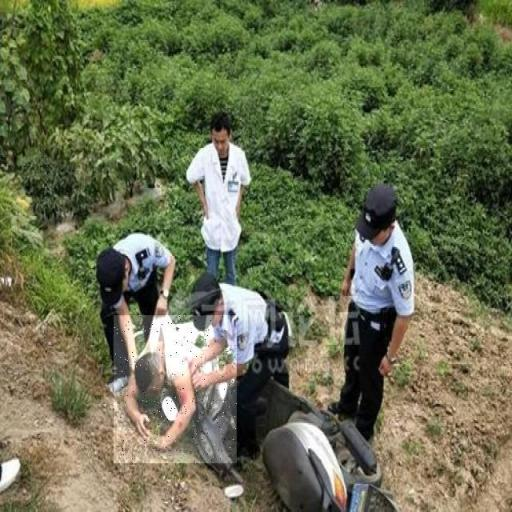Fall: (114, 315, 237, 463)
